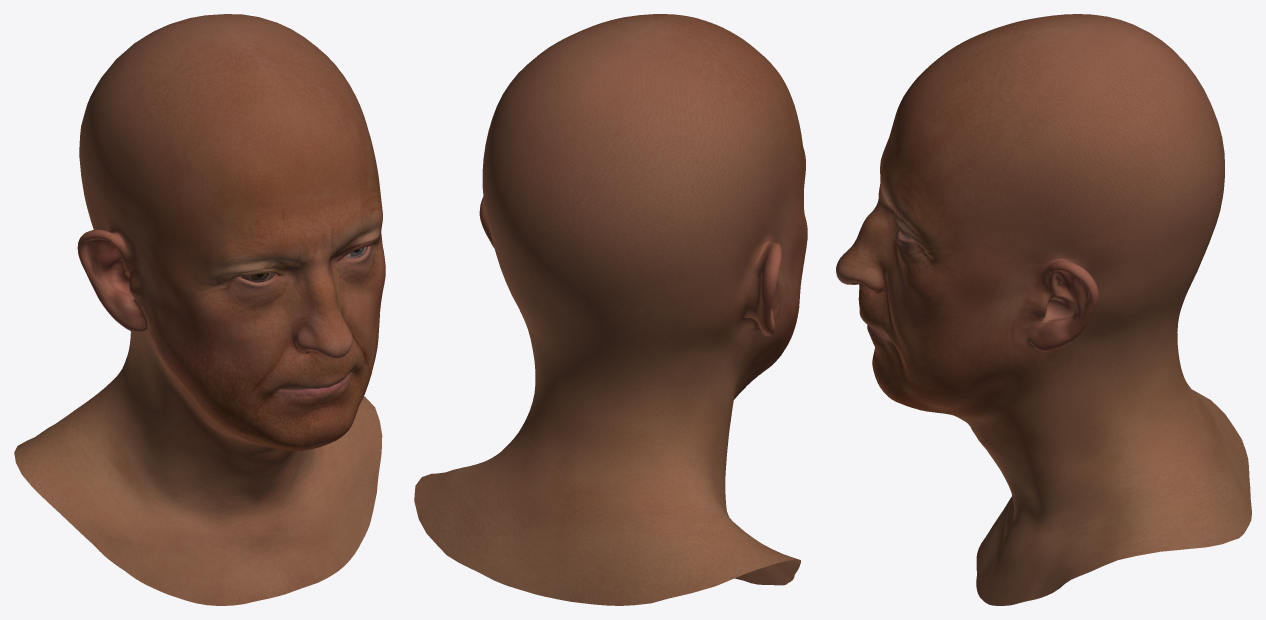
The picture shows the model from 3 angles, left to right: view 1: azimuth 30°, elevation 25°; view 2: azimuth 150°, elevation 25°; view 3: azimuth 270°, elevation 25°; orthographic projection. The views are drawn at different scales.
Parts seen in each view (by area): view 1: UnchangedNativeHead; view 2: UnchangedNativeHead; view 3: UnchangedNativeHead.
Part boxes in pixels (x1,y1,x2,y2): UnchangedNativeHead: [14, 14, 385, 605]; UnchangedNativeHead: [414, 14, 807, 605]; UnchangedNativeHead: [836, 14, 1251, 605].
Size of the model in its own units: 1.27 by 1.88 by 1.3.
Materials: 3 (3 with a texture image).
